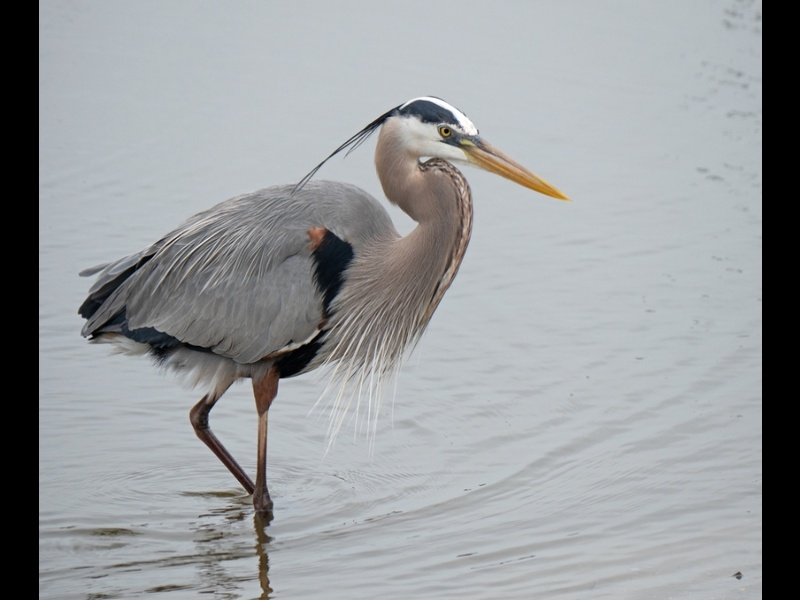heron: (72, 89, 573, 535)
